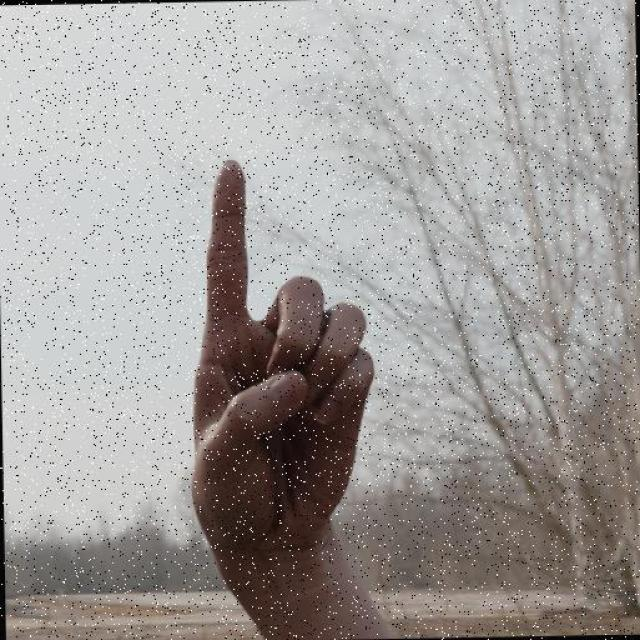D: (168, 140, 391, 610)
